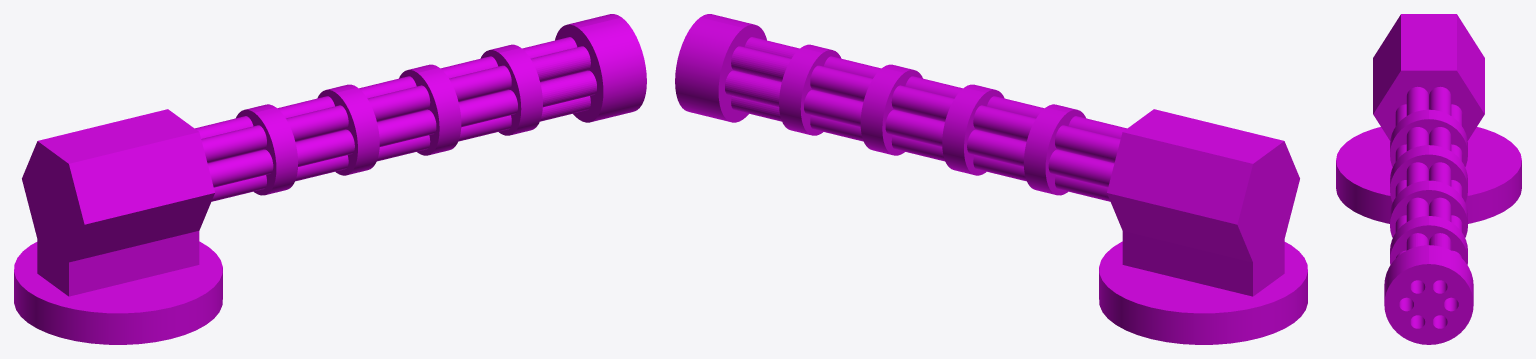
The model's file is minigun(redo).mb.fbx.
3 views of the same model, side by side, from view 1: azimuth 30°, elevation 25°; view 2: azimuth 150°, elevation 25°; view 3: azimuth 270°, elevation 25° (orthographic). The views are drawn at different scales.
Parts seen in each view (by area): view 1: polySurface108.001; view 2: polySurface108.001; view 3: polySurface108.001.
Boxes of the visible parts, x1,y1,x2,y2 form: polySurface108.001: [14, 14, 646, 344]; polySurface108.001: [675, 14, 1307, 344]; polySurface108.001: [1336, 14, 1521, 344].
Bounding box in the file's own units: 39.35 × 10.4 × 12.
